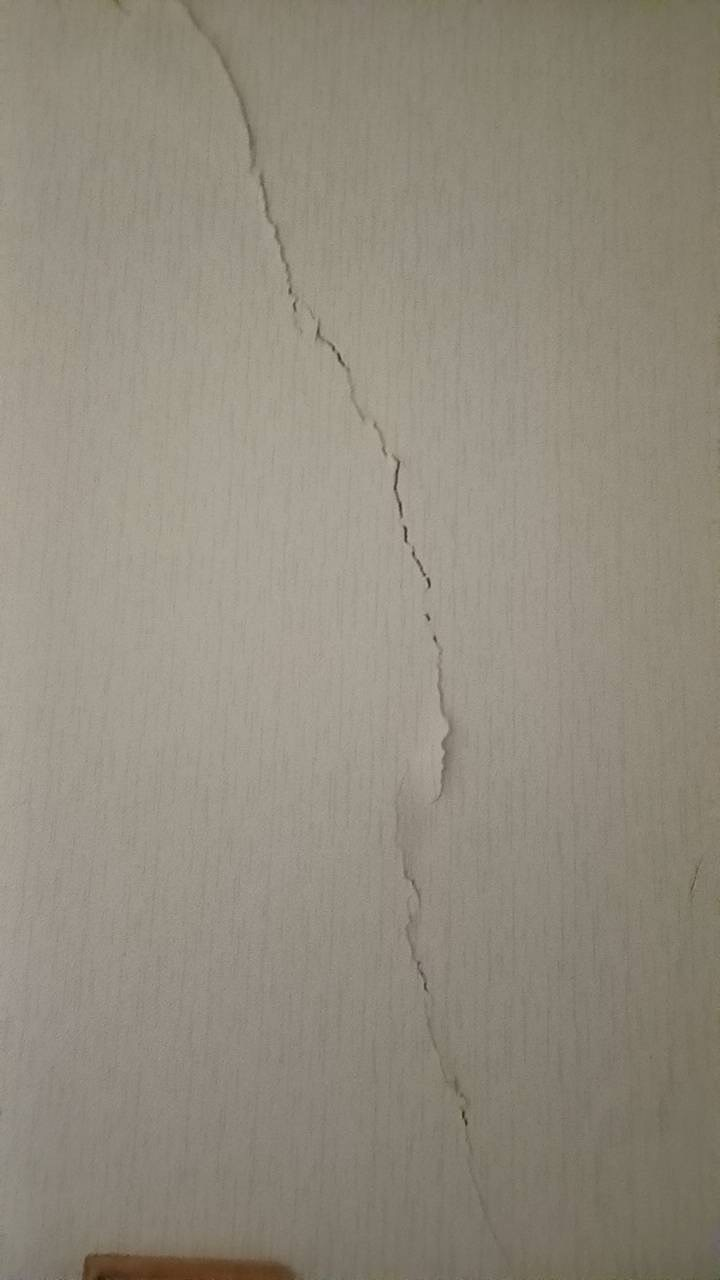Low: (160, 11, 544, 1280)
